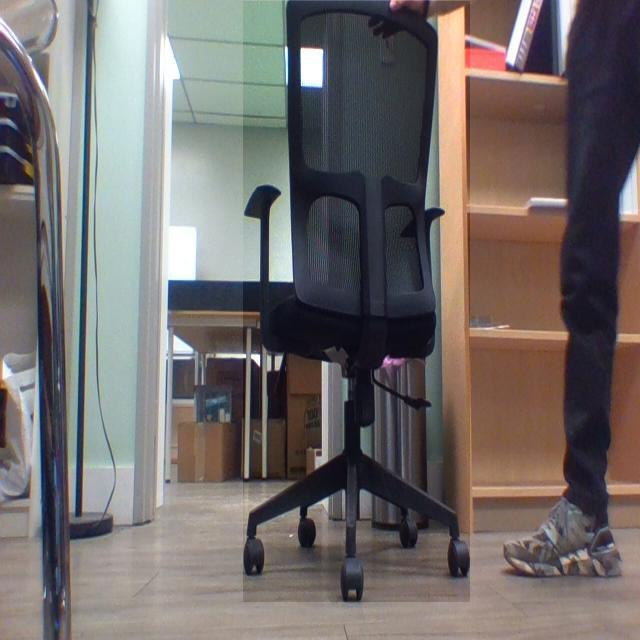chair: (229, 1, 478, 605)
light: (275, 27, 331, 98), (156, 39, 193, 77)
table: (175, 281, 323, 469)
